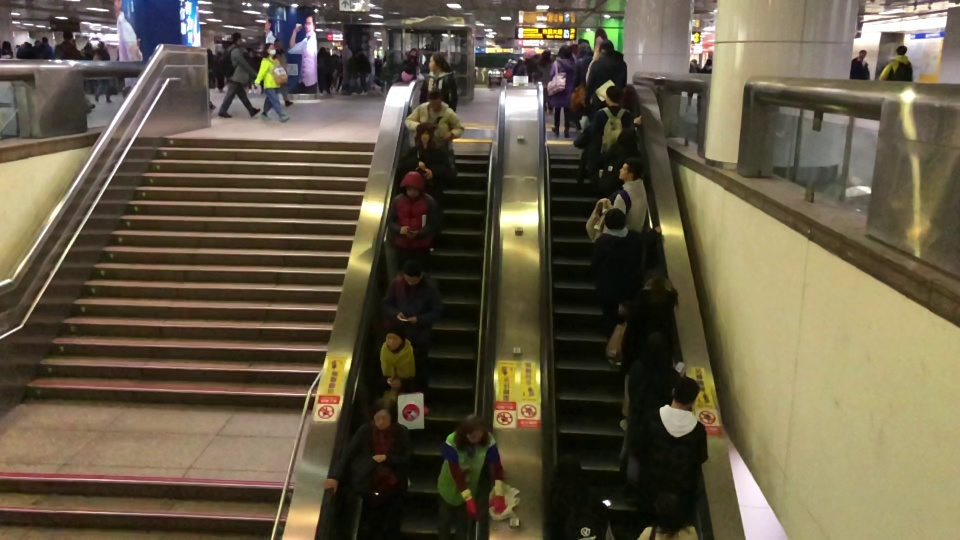person_head: (652, 492, 684, 528), (670, 375, 700, 409), (552, 452, 582, 483), (371, 396, 397, 430), (381, 319, 406, 349), (463, 413, 487, 443), (644, 333, 667, 363), (399, 171, 424, 198), (401, 258, 424, 285), (604, 207, 627, 230), (616, 158, 640, 180), (616, 127, 638, 149), (415, 123, 435, 146), (645, 267, 666, 288), (428, 52, 447, 72), (605, 86, 622, 106), (428, 86, 441, 106), (558, 43, 572, 58), (578, 42, 592, 57), (599, 39, 613, 53), (263, 42, 277, 55), (895, 44, 908, 56), (231, 31, 243, 43), (540, 47, 551, 60), (408, 47, 416, 61), (61, 30, 72, 40), (2, 39, 11, 51), (526, 49, 536, 59), (858, 48, 866, 59), (97, 39, 104, 48), (705, 58, 712, 66), (318, 45, 324, 53), (275, 39, 280, 48)
person_vbox: (321, 395, 412, 539), (380, 258, 445, 420), (618, 267, 679, 436), (589, 206, 662, 339), (623, 332, 689, 479), (435, 412, 508, 540), (371, 318, 426, 487), (640, 376, 708, 506), (400, 123, 452, 255), (382, 170, 439, 281), (551, 451, 610, 540), (584, 84, 644, 158), (216, 31, 261, 119), (403, 86, 466, 144), (601, 158, 648, 234), (583, 39, 628, 114), (598, 127, 644, 198), (635, 492, 698, 539), (254, 42, 290, 122), (548, 43, 576, 140), (419, 51, 458, 111), (273, 38, 294, 108), (91, 39, 112, 104), (878, 43, 913, 82), (538, 48, 554, 113), (54, 29, 81, 59), (851, 50, 869, 80), (316, 46, 327, 95), (687, 61, 696, 107), (699, 57, 714, 75), (1, 39, 14, 59)
